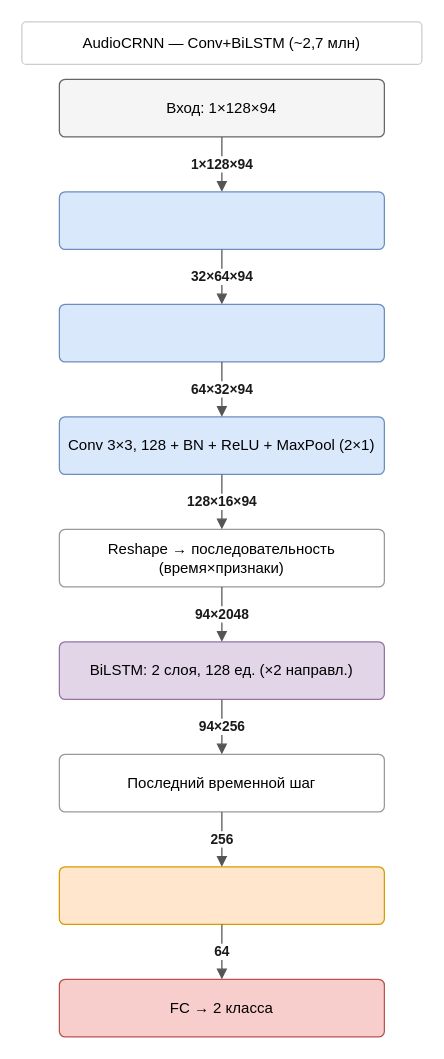
The diagram is 444 pixels wide and 1059 high, and some of its shapes have lost their labels. Each missing label, with the centre of its shape:
"Conv 3×3, 32 + BN + ReLU + MaxPool (2×1)" belongs at point 221,220.
"Conv 3×3, 64 + BN + ReLU + MaxPool (2×1)" belongs at point 221,332.
"FC 64 + ReLU + Dropout 0,5" belongs at point 221,895.
